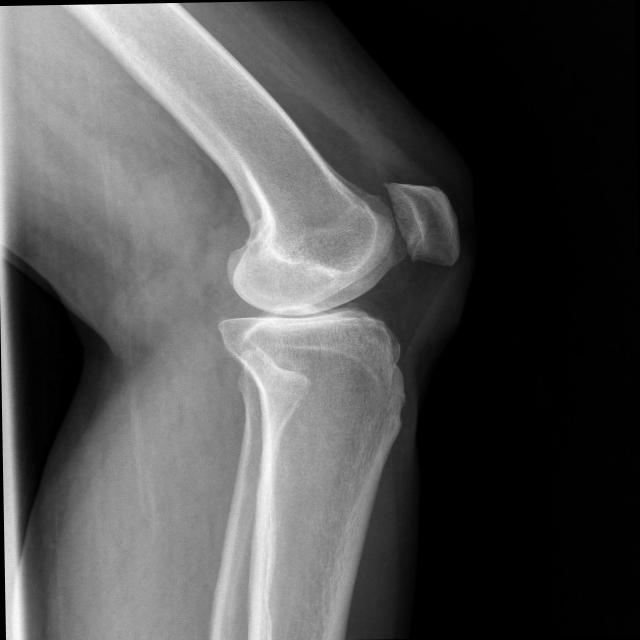Knee: (203, 175, 460, 394)
